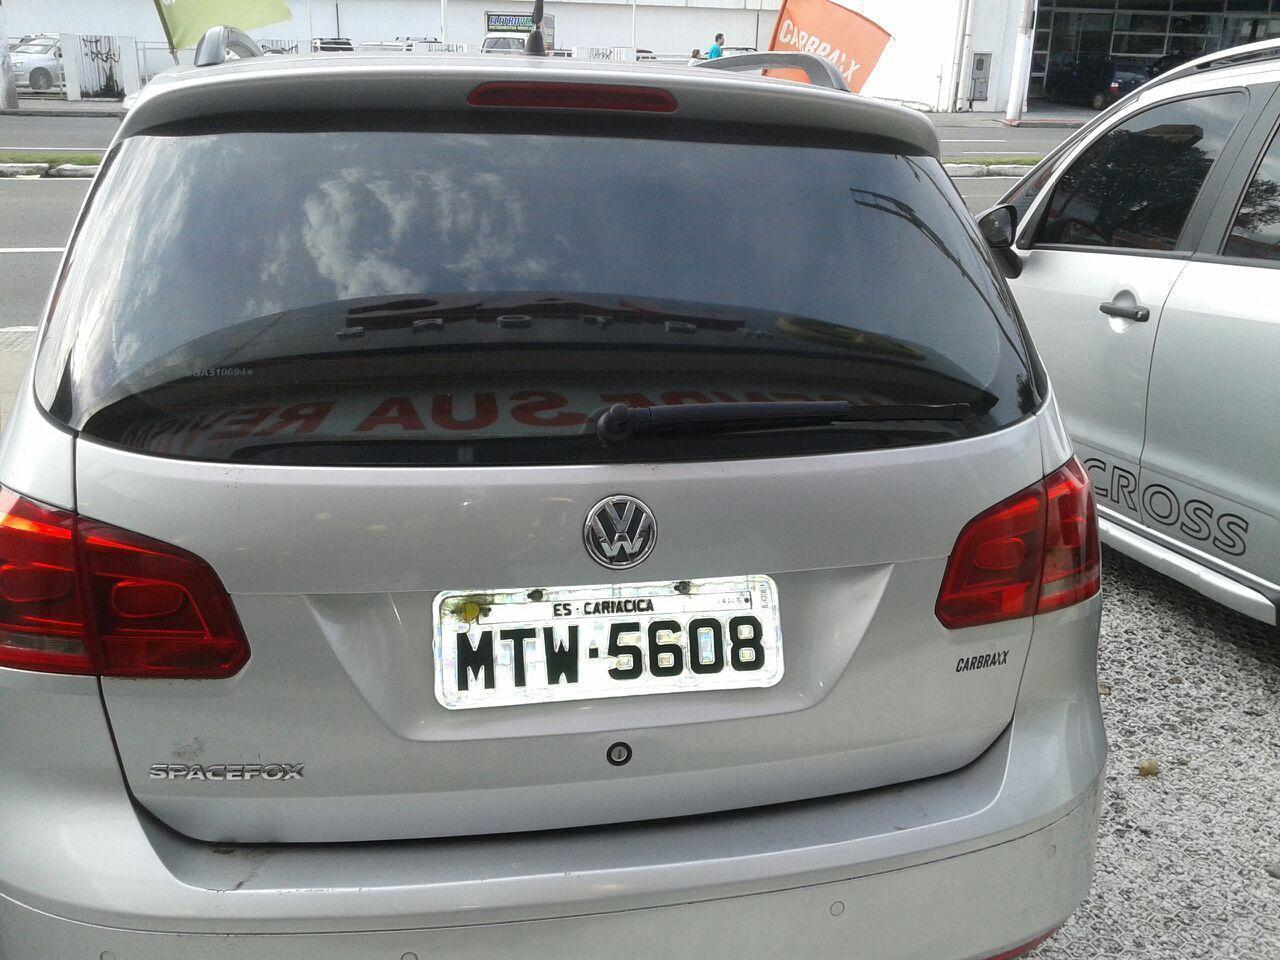placa de veiculo: (411, 564, 813, 726)
